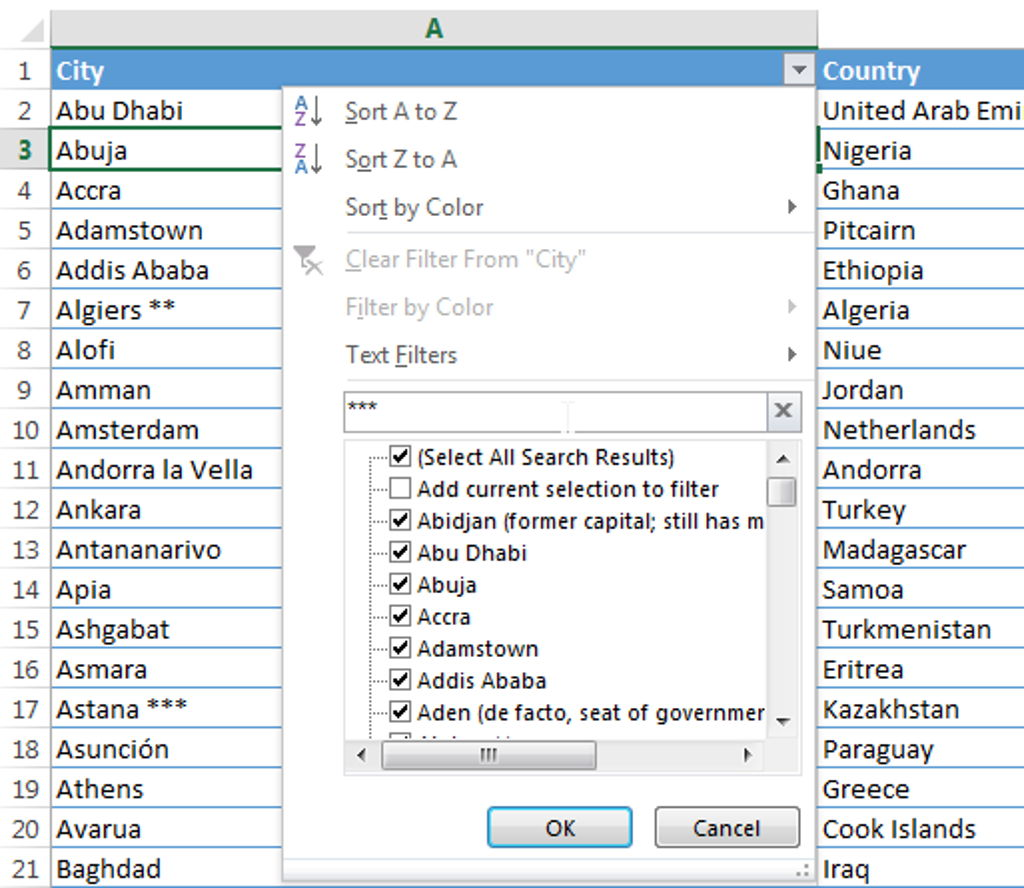button: (282, 232, 815, 283), (283, 134, 816, 184), (283, 330, 816, 380), (283, 184, 815, 232), (282, 283, 816, 330), (283, 87, 816, 133), (382, 740, 597, 772), (654, 805, 801, 847), (487, 806, 633, 848), (768, 391, 803, 432), (766, 440, 800, 476), (344, 740, 382, 772), (732, 740, 766, 771), (766, 476, 800, 507), (767, 707, 799, 739), (388, 443, 412, 468), (388, 507, 412, 532), (388, 476, 412, 499), (389, 540, 412, 563), (389, 572, 411, 595), (389, 604, 411, 627), (389, 636, 411, 659), (389, 668, 411, 691), (389, 700, 411, 722), (389, 731, 411, 739)
common: (416, 700, 765, 723), (416, 510, 765, 532), (417, 444, 674, 470), (417, 478, 721, 499), (417, 669, 550, 691), (416, 637, 540, 659), (416, 541, 528, 563), (416, 574, 479, 596), (416, 606, 473, 627)
container: (283, 86, 818, 882), (344, 441, 802, 776), (344, 440, 766, 739), (344, 391, 803, 432), (345, 740, 766, 772), (387, 504, 766, 535), (766, 440, 801, 739), (386, 473, 724, 503), (385, 441, 680, 473), (389, 699, 765, 724), (387, 634, 544, 663), (388, 667, 553, 692), (387, 538, 531, 566), (387, 570, 482, 599), (388, 603, 475, 629)
table: (1, 1, 1024, 888)
table-cell: (50, 47, 818, 90), (51, 11, 818, 48), (50, 129, 282, 171), (51, 328, 283, 369), (51, 567, 283, 608), (51, 847, 283, 888), (51, 288, 283, 328), (51, 408, 283, 448), (51, 528, 283, 568), (51, 608, 283, 648), (51, 727, 283, 767), (51, 767, 283, 807), (51, 807, 283, 847), (51, 448, 282, 488), (50, 169, 282, 208), (51, 369, 283, 408), (51, 688, 283, 727), (51, 209, 282, 248), (51, 249, 282, 288), (51, 488, 282, 527), (50, 89, 283, 127), (51, 648, 283, 686), (815, 208, 1024, 249), (816, 288, 1024, 329), (817, 567, 1024, 608), (817, 847, 1024, 888), (818, 48, 1024, 89), (817, 368, 1024, 408), (817, 408, 1024, 448), (817, 448, 1024, 488), (817, 488, 1024, 528), (817, 687, 1024, 727), (817, 727, 1024, 767), (817, 767, 1024, 807), (817, 807, 1024, 847), (815, 249, 1024, 288), (816, 169, 1024, 208), (817, 89, 1024, 128), (817, 129, 1024, 168), (817, 329, 1024, 368), (817, 528, 1024, 567), (817, 609, 1024, 648), (817, 648, 1024, 687), (817, 10, 1024, 48), (1, 48, 51, 89), (1, 847, 51, 888), (1, 129, 51, 169), (1, 169, 51, 209), (1, 248, 51, 288), (1, 288, 51, 328), (1, 328, 51, 368), (1, 408, 51, 448), (1, 488, 51, 528), (1, 528, 51, 568), (1, 607, 51, 647), (1, 727, 51, 767), (1, 89, 51, 128), (1, 209, 51, 248), (1, 369, 51, 408), (1, 448, 51, 487), (1, 568, 51, 607), (1, 648, 51, 687), (1, 688, 51, 727), (1, 767, 51, 806), (1, 807, 51, 846), (1, 10, 51, 48)
table-row: (1, 48, 1024, 89), (1, 128, 1024, 169), (1, 328, 1024, 369), (1, 607, 1024, 648), (1, 727, 1024, 768), (1, 806, 1024, 847), (1, 847, 1024, 888), (1, 169, 1024, 209), (1, 248, 1024, 288), (1, 288, 1024, 328), (1, 408, 1024, 448), (1, 448, 1024, 488), (1, 488, 1024, 528), (1, 528, 1024, 568), (1, 648, 1024, 688), (1, 89, 1024, 128), (1, 209, 1024, 248), (1, 369, 1024, 408), (1, 568, 1024, 607), (1, 768, 1024, 807), (1, 689, 1024, 727), (1, 11, 1024, 48)
text-input: (343, 390, 768, 432)
